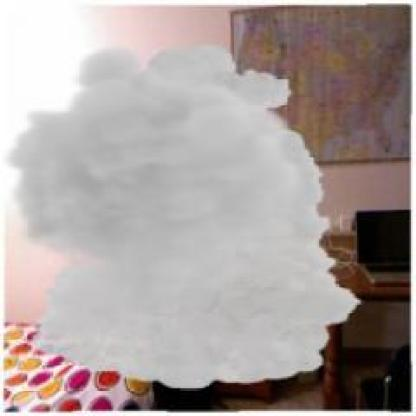Smoke: (2, 42, 364, 391)
